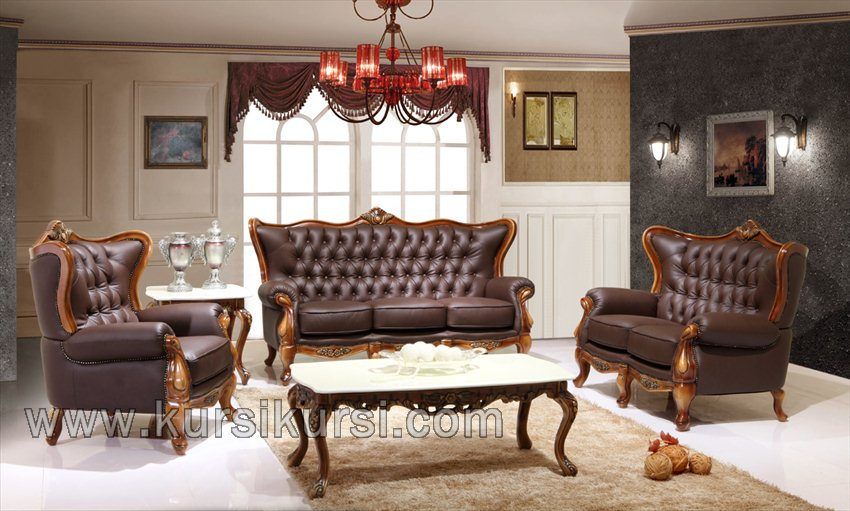Carving Chair: (26, 217, 238, 452), (567, 216, 810, 421)
Carving Table: (286, 348, 594, 486)
